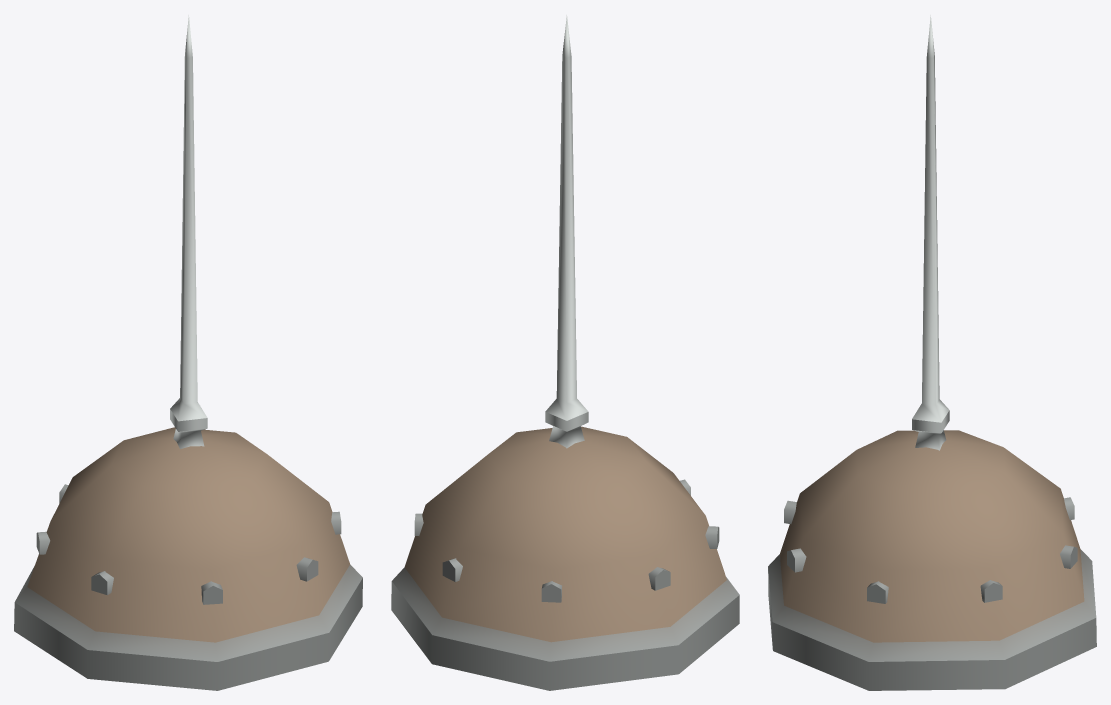
The picture shows the model from 3 angles, left to right: view 1: azimuth 30°, elevation 25°; view 2: azimuth 150°, elevation 25°; view 3: azimuth 270°, elevation 25°; orthographic projection.
Visible parts, largest first — view 1: G:\FFXIV-MapTools\exports\w1f2\bg\ffxiv\wil_w1\fld\w1f2\bgpa (×4); view 2: G:\FFXIV-MapTools\exports\w1f2\bg\ffxiv\wil_w1\fld\w1f2\bgpa (×4); view 3: G:\FFXIV-MapTools\exports\w1f2\bg\ffxiv\wil_w1\fld\w1f2\bgpa (×4).
Part boxes in pixels (left/top/right/bottom): G:\FFXIV-MapTools\exports\w1f2\bg\ffxiv\wil_w1\fld\w1f2\bgpa (×4): left=14, top=15, right=362, bottom=690; G:\FFXIV-MapTools\exports\w1f2\bg\ffxiv\wil_w1\fld\w1f2\bgpa (×4): left=391, top=15, right=739, bottom=690; G:\FFXIV-MapTools\exports\w1f2\bg\ffxiv\wil_w1\fld\w1f2\bgpa (×4): left=768, top=15, right=1096, bottom=690.
Bounding box in the file's own units: 37.53 × 75.62 × 37.12.
